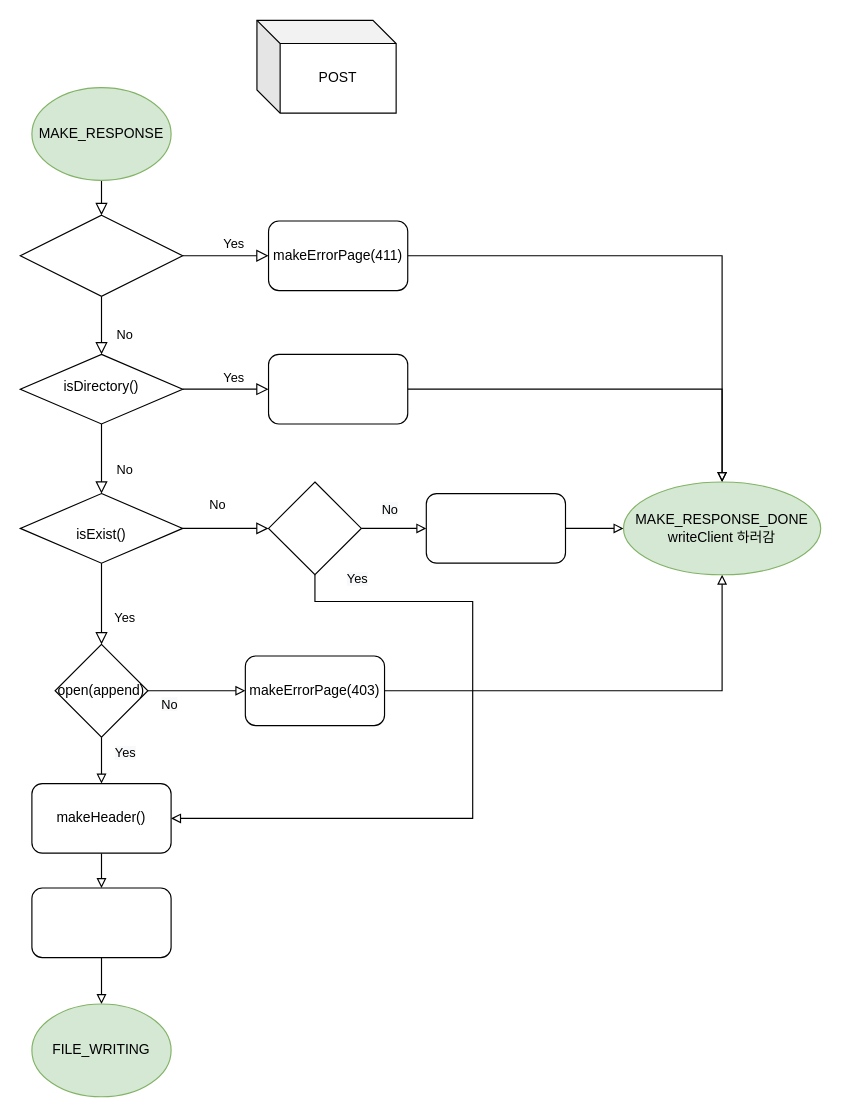
Image size: 841x1117. Some labels were removed from this diagram. Here are the shapes that lost their labels. From the top down, the centre of each, then its label:
At (x=101, y=255): "Request's body == 0".
At (x=337, y=388): "makeErrorPage(400)".
At (x=314, y=528): "open(create)".
At (x=495, y=527): "makeErrorPage(500)".
At (x=101, y=922): "setResource(WRITE)".
